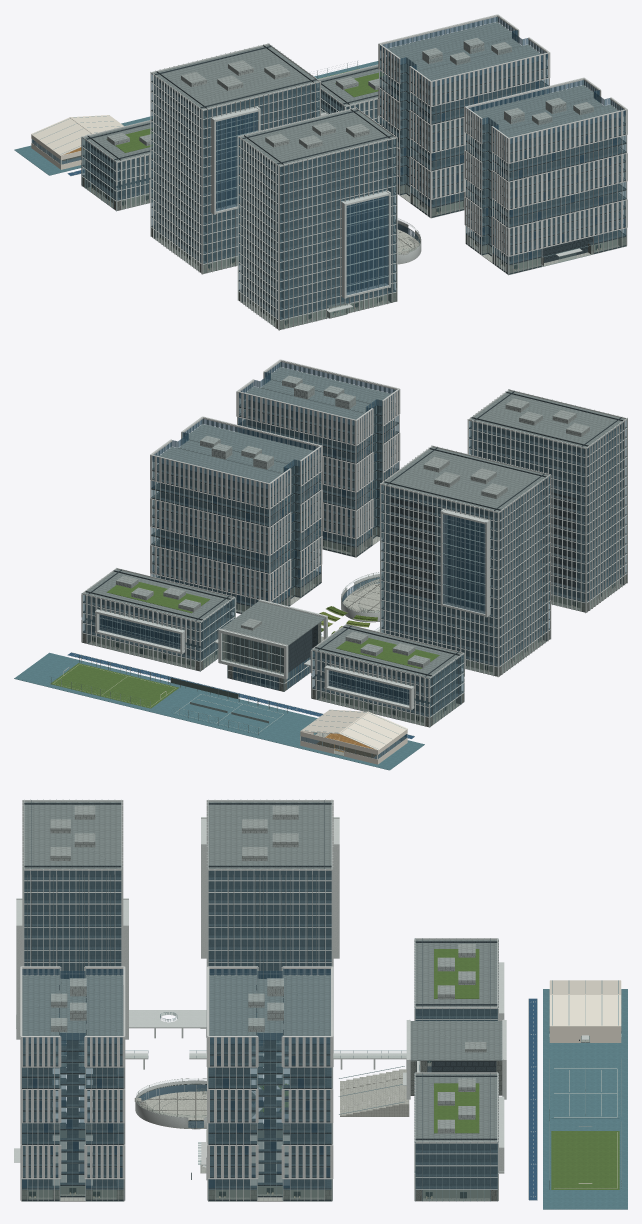
File: HKU-Shanghai-Campus-no-ground.glb
3 renders of one model, top to bottom at view 1: azimuth 30°, elevation 25°; view 2: azimuth 150°, elevation 25°; view 3: azimuth 270°, elevation 25°, orthographic. The views are drawn at different scales.
Parts seen in each view (by area): view 1: 03_Columns_and_Frames__Silver facade fins (×2), Glass_plane__Glazing_office (×6), 03_Columns_and_Fins__Warm silver aluminium (×2), Glazing_and_grid__Opaque structural core (×6), 01_MainBody__Opaque facade backing (×2), Roof (×4), Entrance_elevation_Glass_plane__Glazing_office (×2), 07_Roof__Roof membrane (×2), Scenic_facade_recess__Opaque structural core (×5), Reflective_feature_glass (×2), Glazing_and_grid__Silver facade fins (×4), 04_FloorBands__Opaque facade backing (×2) (+24 smaller); view 2: 03_Columns_and_Frames__Silver facade fins (×2), Glass_plane__Glazing_office (×8), Glazing_and_grid__Opaque structural core (×9), 03_Columns_and_Fins__Warm silver aluminium (×2), Roof (×4), 01_MainBody__Opaque facade backing (×2), Rear_elevation_PROVISIONAL_Glass_plane__Glazing_office (×2), Scenic_facade_recess__Opaque structural core (×6), Sports__Jogging surface, 07_Roof__Roof membrane (×2), Reflective_feature_glass (×3), 03_Fins_and_Floating_Frame__Silver facade fins (×2) (+29 smaller); view 3: Glass_plane__Glazing_office (×4), Roof (×4), 03_Columns_and_Fins__Warm silver aluminium (×2), Tower_core (×2), 07_Roof__Roof membrane (×2), 01_MainBody__Opaque facade backing (×2), Sports__Jogging surface, 03_Columns_and_Frames__Silver facade fins (×2), Side_1_wing_-1_Glass_plane__Glazing_office (×2), Side_1_wing_1_Glass_plane__Glazing_office (×2), Glazing_and_grid__Opaque structural core (×3), Side_1_recess_Glass_plane__Glazing_office (×2) (+35 smaller).
Part boxes in pixels (x1,y1,x2,y2): 03_Columns_and_Frames__Silver facade fins (×2): [150, 43, 397, 330]; Glass_plane__Glazing_office (×6): [82, 74, 395, 319]; 03_Columns_and_Fins__Warm silver aluminium (×2): [378, 17, 627, 274]; Glazing_and_grid__Opaque structural core (×6): [151, 46, 395, 319]; 01_MainBody__Opaque facade backing (×2): [388, 57, 618, 262]; Roof (×4): [84, 45, 394, 165]; Entrance_elevation_Glass_plane__Glazing_office (×2): [432, 60, 625, 263]; 07_Roof__Roof membrane (×2): [383, 22, 624, 143]; Scenic_facade_recess__Opaque structural core (×5): [83, 83, 394, 318]; Reflective_feature_glass (×2): [216, 111, 388, 295]; Glazing_and_grid__Silver facade fins (×4): [151, 82, 396, 320]; 04_FloorBands__Opaque facade backing (×2): [379, 57, 626, 274]; 03_Columns_and_Frames__Silver facade fins (×2): [380, 389, 627, 677]; Glass_plane__Glazing_office (×8): [83, 420, 626, 716]; Glazing_and_grid__Opaque structural core (×9): [83, 391, 626, 716]; 03_Columns_and_Fins__Warm silver aluminium (×2): [150, 362, 400, 613]; Roof (×4): [84, 391, 624, 677]; 01_MainBody__Opaque facade backing (×2): [159, 400, 389, 603]; Rear_elevation_PROVISIONAL_Glass_plane__Glazing_office (×2): [151, 398, 354, 605]; Scenic_facade_recess__Opaque structural core (×6): [84, 427, 623, 714]; Sports__Jogging surface: [14, 652, 424, 770]; 07_Roof__Roof membrane (×2): [153, 367, 393, 489]; Reflective_feature_glass (×3): [99, 514, 485, 705]; 03_Fins_and_Floating_Frame__Silver facade fins (×2): [81, 594, 464, 727]; Glass_plane__Glazing_office (×4): [24, 871, 497, 1188]; Roof (×4): [24, 801, 497, 1141]; 03_Columns_and_Fins__Warm silver aluminium (×2): [20, 967, 333, 1201]; Tower_core (×2): [31, 871, 324, 1049]; 07_Roof__Roof membrane (×2): [22, 975, 330, 1043]; 01_MainBody__Opaque facade backing (×2): [28, 1040, 324, 1186]; Sports__Jogging surface: [543, 989, 627, 1209]; 03_Columns_and_Frames__Silver facade fins (×2): [16, 799, 339, 1066]; Side_1_wing_-1_Glass_plane__Glazing_office (×2): [86, 1045, 331, 1187]; Side_1_wing_1_Glass_plane__Glazing_office (×2): [22, 1045, 256, 1187]; Glazing_and_grid__Opaque structural core (×3): [24, 865, 497, 1189]; Side_1_recess_Glass_plane__Glazing_office (×2): [60, 1041, 282, 1184].
Bounding box in the file's own units: 190 × 85.6 × 224.
Materials: 416 (282 with a texture image).
